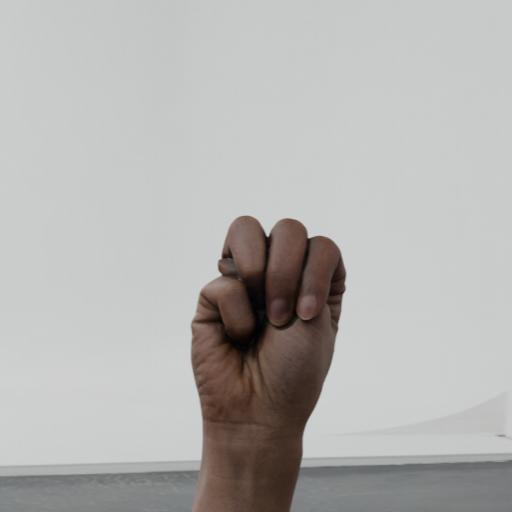M: (173, 174, 363, 396)
